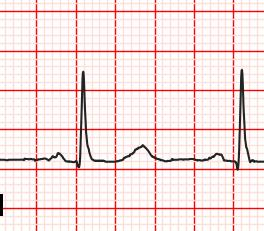LVH: (114, 142, 160, 165)
